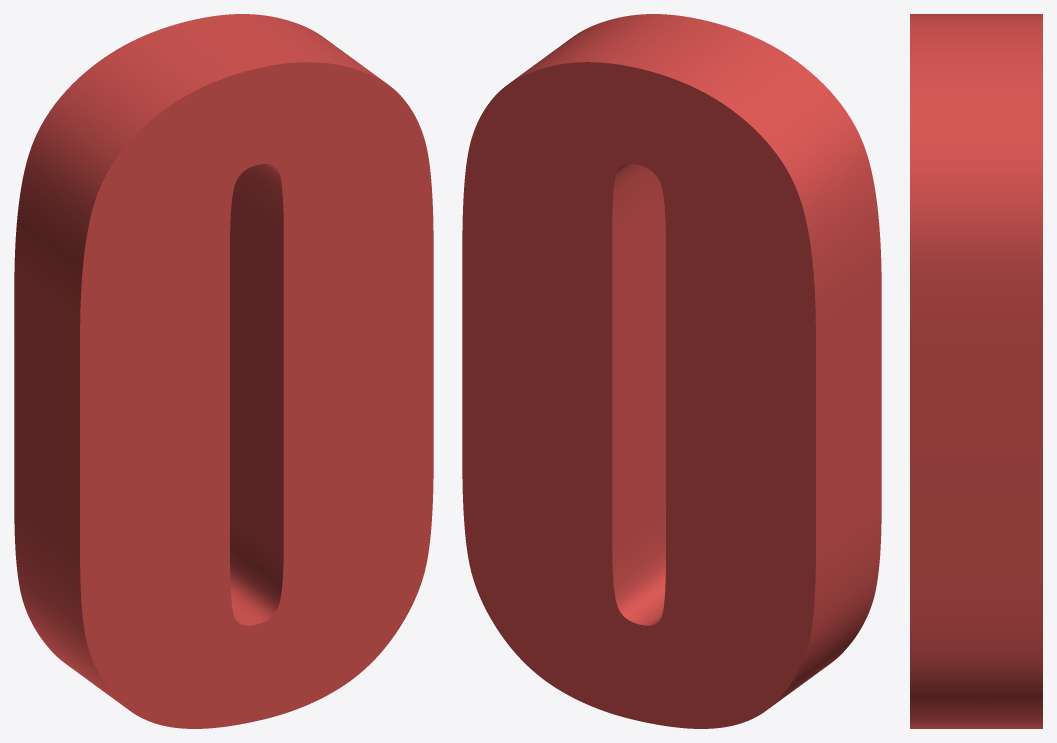
3 views of the same model, side by side, from view 1: azimuth 30°, elevation 25°; view 2: azimuth 150°, elevation 25°; view 3: azimuth 270°, elevation 25° (orthographic).
Visible parts, largest first — view 1: テキスト; view 2: テキスト; view 3: テキスト.
Boxes of the visible parts, box(x1,y1,x2,y2) form: テキスト: box(14, 14, 433, 728); テキスト: box(462, 14, 881, 728); テキスト: box(910, 14, 1042, 728).
Size of the model in its own units: 0.3105 by 0.5477 by 0.1.
